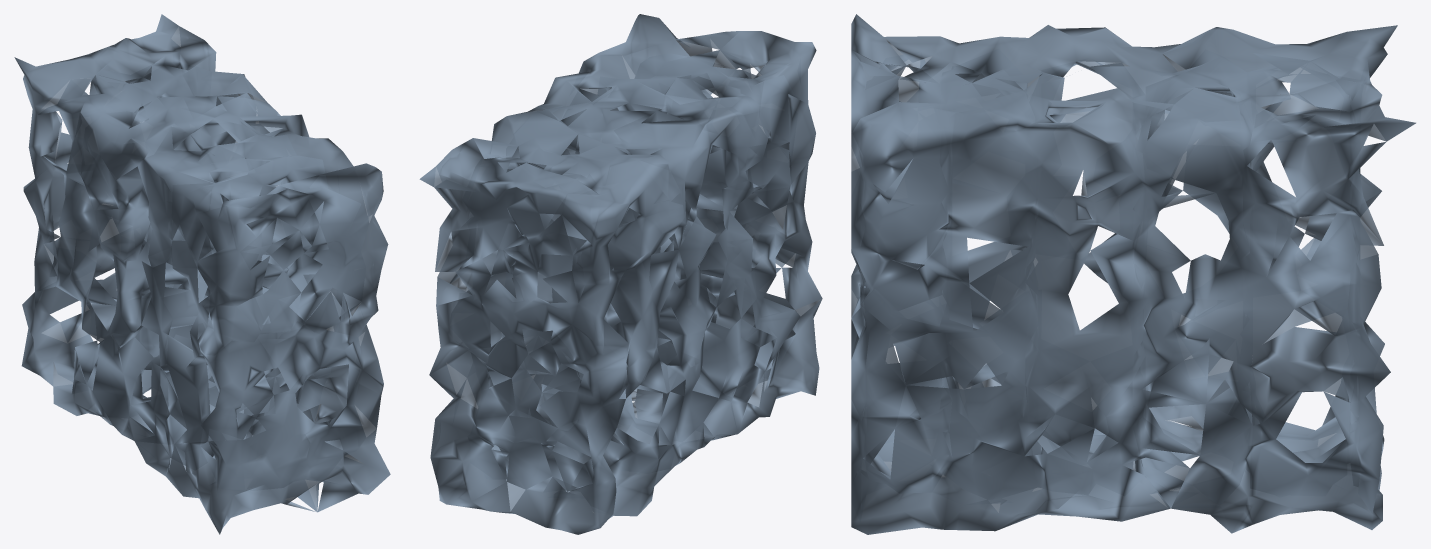
The model's file is sample_431_orig.obj.
3 renders of one model, left to right at view 1: azimuth 30°, elevation 25°; view 2: azimuth 150°, elevation 25°; view 3: azimuth 270°, elevation 25°, orthographic. The views are drawn at different scales.
Bounding box in the file's own units: 0.6601 × 1.2 × 1.43.
